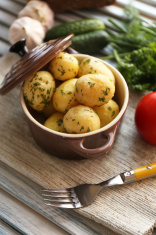boiled potatoes: (27, 58, 126, 136)
